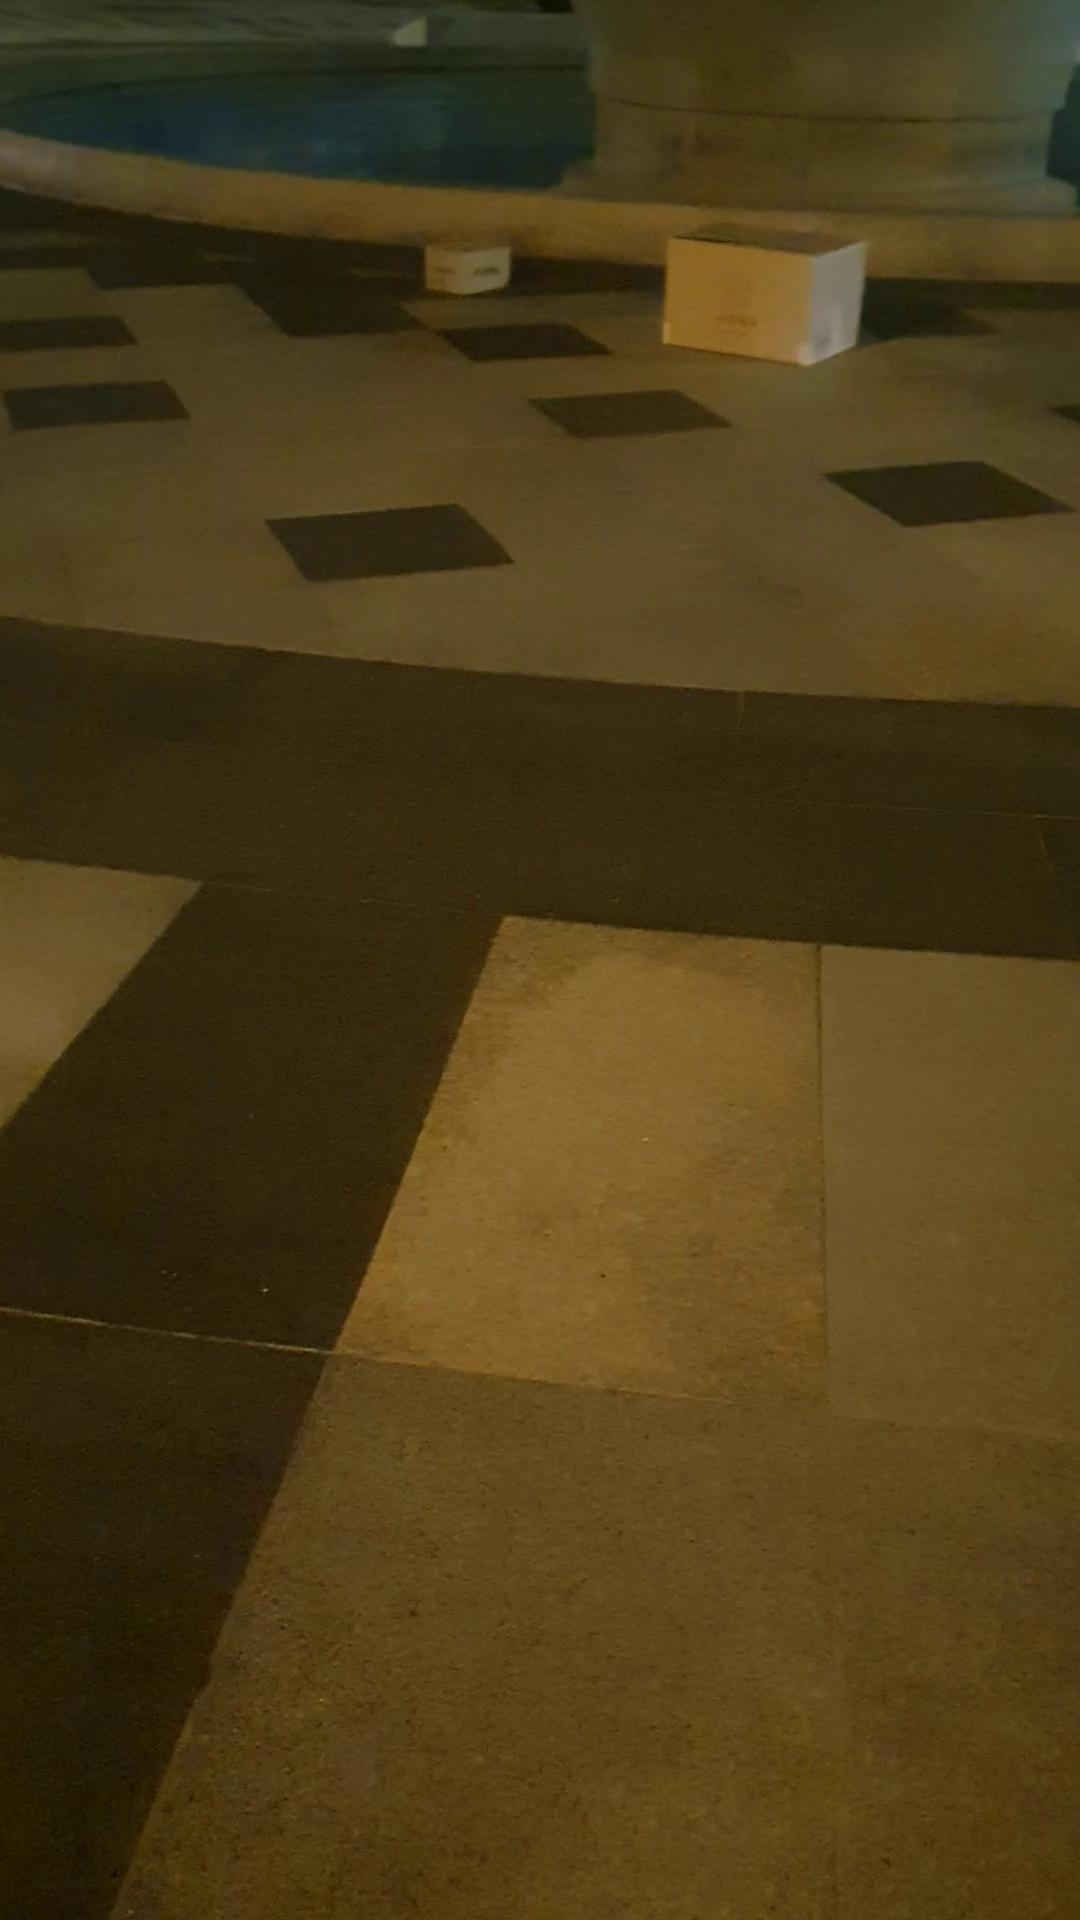Box: (655, 210, 857, 367), (415, 233, 516, 297)
